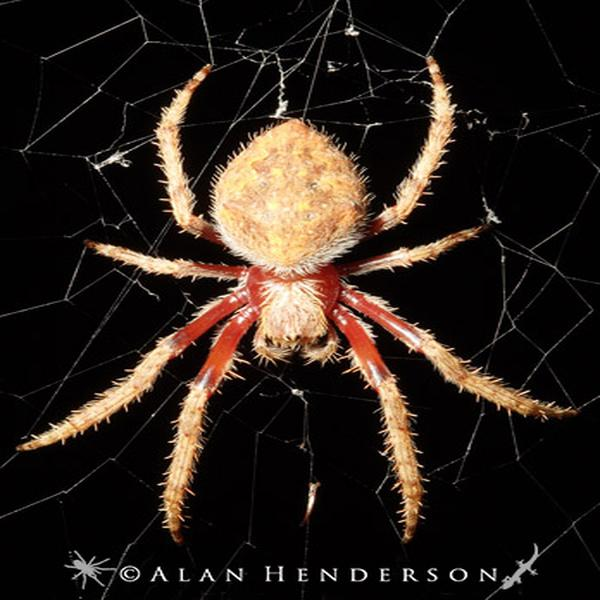Garden_Orb_Weaver_Spider: (30, 64, 574, 539)
